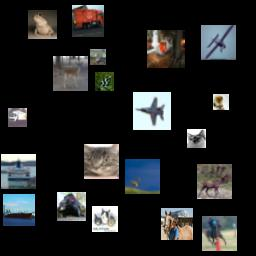airplane: (133, 92, 171, 130), (201, 25, 236, 60)
automobile: (57, 192, 86, 221)
cat: (84, 144, 119, 179), (92, 206, 118, 232), (187, 129, 206, 148), (90, 49, 106, 65)
deer: (197, 164, 232, 199), (53, 56, 88, 91), (125, 159, 160, 194)
dog: (213, 94, 229, 110)
frog: (28, 10, 57, 39), (95, 72, 114, 91)
ship: (1, 154, 36, 189), (3, 194, 35, 226)
truck: (147, 30, 185, 68), (72, 5, 104, 37), (8, 108, 27, 127)
